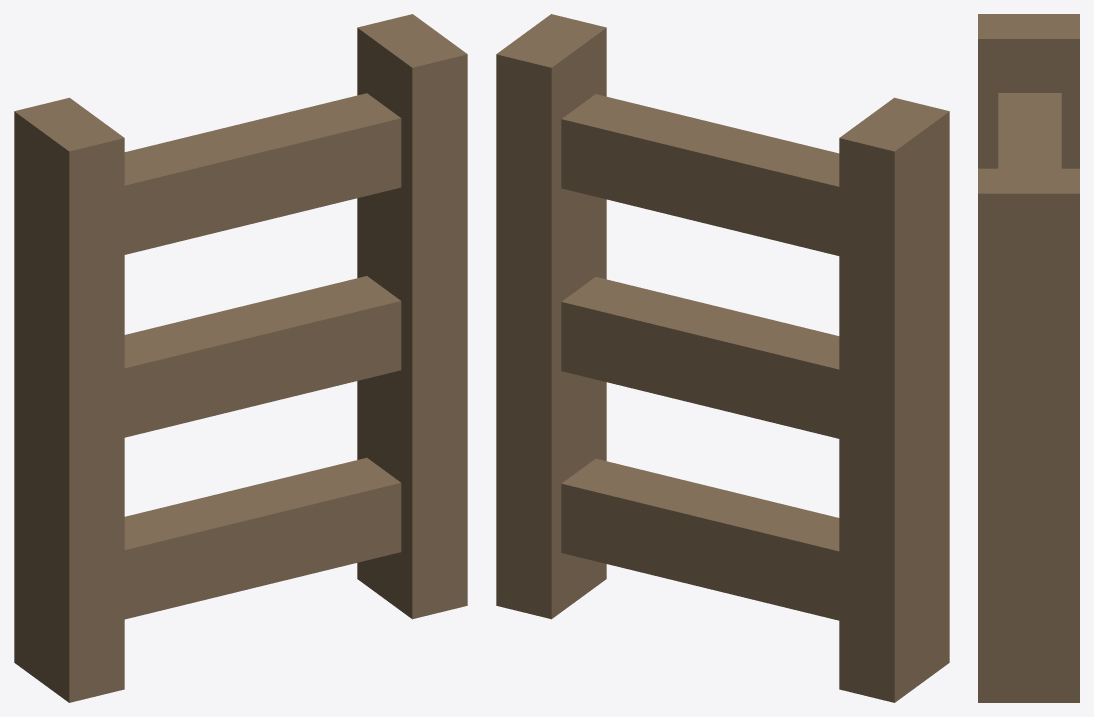
File: Ladder.fbx
3 renders of one model, left to right at view 1: azimuth 30°, elevation 25°; view 2: azimuth 150°, elevation 25°; view 3: azimuth 270°, elevation 25°, orthographic. The views are drawn at different scales.
Visible parts, largest first — view 1: Ladder; view 2: Ladder; view 3: Ladder.
Boxes of the visible parts, box(x1,y1,x2,y2) form: Ladder: box(14, 14, 467, 702); Ladder: box(496, 14, 949, 702); Ladder: box(978, 14, 1079, 702).
Size of the model in its own units: 0.7564 by 1 by 0.1811.
